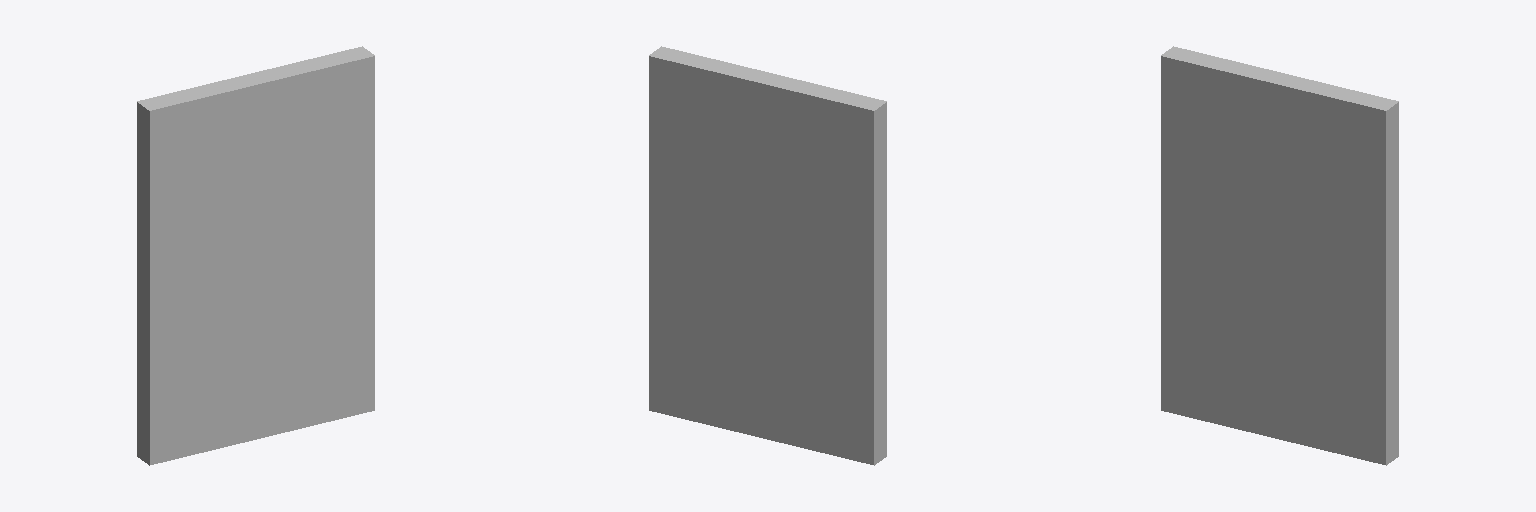
The model's file is Wall_Standard_Door.obj.
3 renders of one model, left to right at view 1: azimuth 30°, elevation 25°; view 2: azimuth 150°, elevation 25°; view 3: azimuth 330°, elevation 25°, orthographic.
Visible parts, largest first — view 1: Wall_Standard_Door; view 2: Wall_Standard_Door; view 3: Wall_Standard_Door.
Boxes of the visible parts, <box> form: Wall_Standard_Door: <box>137,46,374,465</box>; Wall_Standard_Door: <box>649,46,886,465</box>; Wall_Standard_Door: <box>1161,46,1398,465</box>.
Size of the model in its own units: 2 by 3 by 0.2.